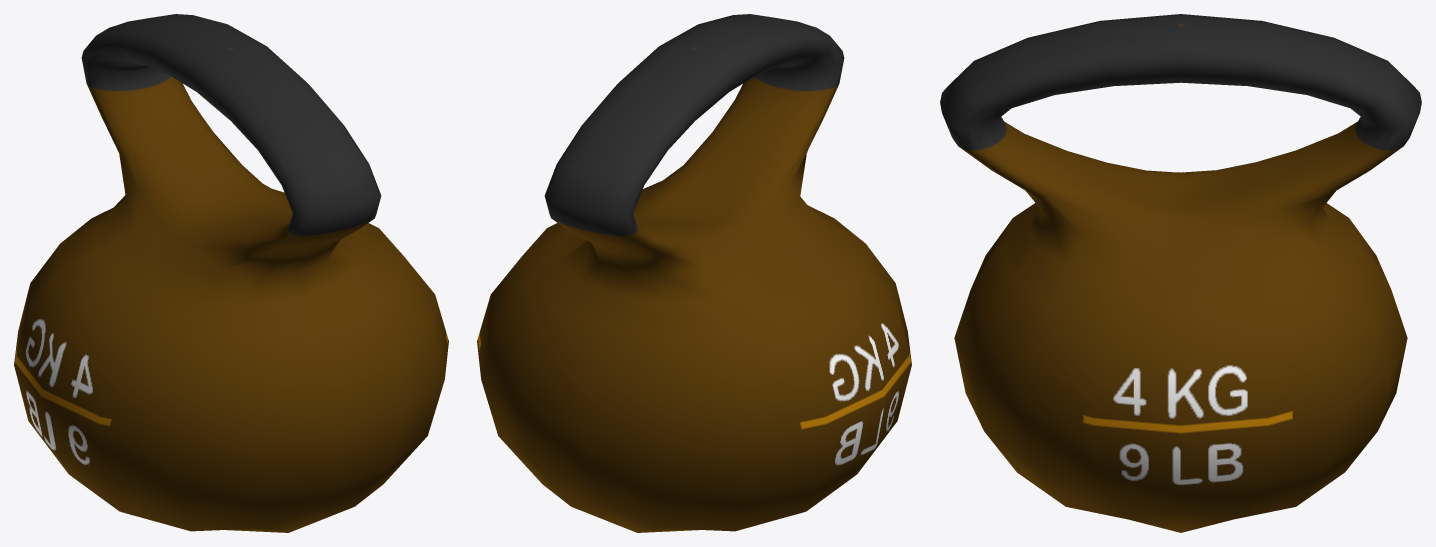
The model's file is rusa3.obj.
3 renders of one model, left to right at view 1: azimuth 30°, elevation 25°; view 2: azimuth 150°, elevation 25°; view 3: azimuth 270°, elevation 25°, orthographic. The views are drawn at different scales.
Parts seen in each view (by area): view 1: rusa3; view 2: rusa3; view 3: rusa3.
Part boxes in pixels (<box>): rusa3: <box>14,14,448,532</box>; rusa3: <box>477,14,911,532</box>; rusa3: <box>940,14,1421,532</box>.
Bounding box in the file's own units: 1.69 × 1.89 × 1.79.
1 material, 1 textured.
